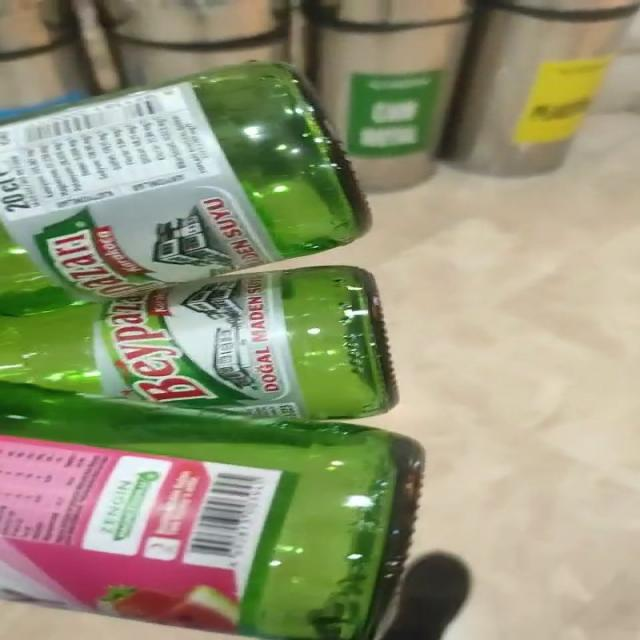glass: (1, 62, 424, 640)
